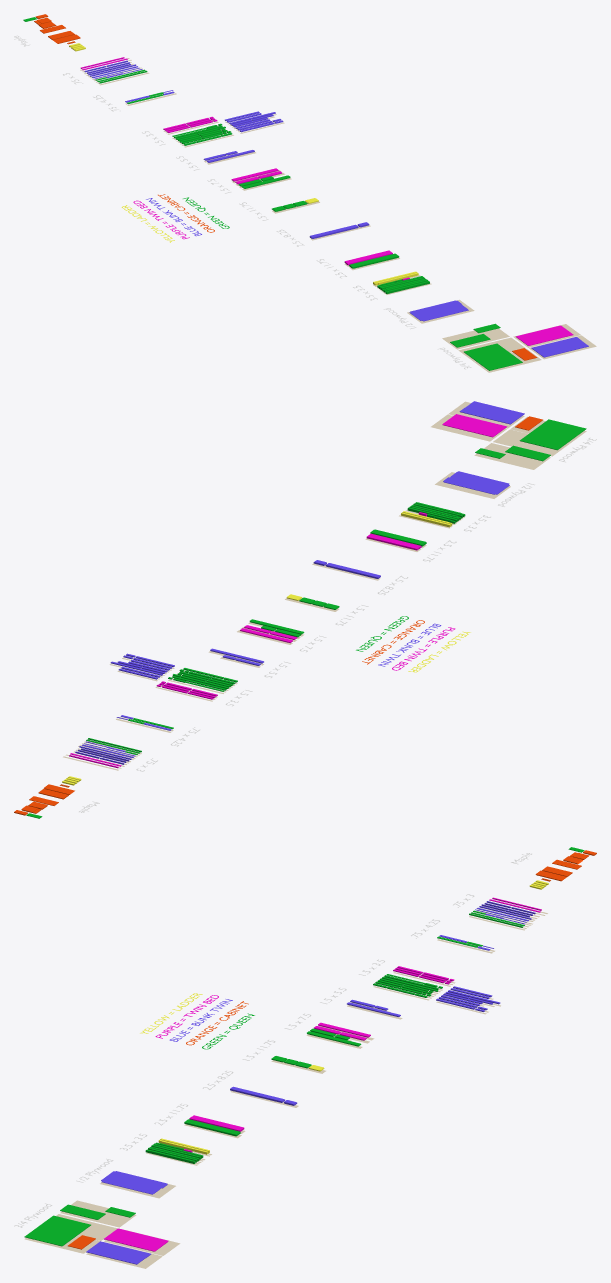
File: bunks-wood-tight.glb
3 renders of one model, top to bottom at view 1: azimuth 30°, elevation 25°; view 2: azimuth 150°, elevation 25°; view 3: azimuth 330°, elevation 25°, orthographic. The views are drawn at different scales.
Visible parts, largest first — view 1: queen-platform.003, twin-platform-bottom.003, twin-platform-top.003, bed-platform.003, Plane.066; view 2: queen-platform.003, twin-platform-bottom.003, twin-platform-top.003, bed-platform.003, Plane.066, Plane.063; view 3: queen-platform.003, twin-platform-bottom.003, bed-platform.003, twin-platform-top.003, Plane.066.
Part boxes in pixels (<box>): queen-platform.003: <box>464,343,522,370</box>; twin-platform-bottom.003: <box>409,300,468,321</box>; twin-platform-top.003: <box>531,337,588,357</box>; bed-platform.003: <box>515,325,573,345</box>; Plane.066: <box>442,328,509,349</box>; queen-platform.003: <box>519,419,586,450</box>; twin-platform-bottom.003: <box>443,471,509,494</box>; twin-platform-top.003: <box>459,401,524,424</box>; bed-platform.003: <box>442,414,507,437</box>; Plane.066: <box>474,443,550,469</box>; Plane.063: <box>493,429,568,456</box>; queen-platform.003: <box>24,1215,90,1246</box>; twin-platform-bottom.003: <box>101,1171,167,1194</box>; bed-platform.003: <box>104,1228,168,1251</box>; twin-platform-top.003: <box>86,1241,151,1264</box>; Plane.066: <box>60,1200,136,1227</box>.
Bounding box in the file's own units: 9.96 × 0.1363 × 37.95.
